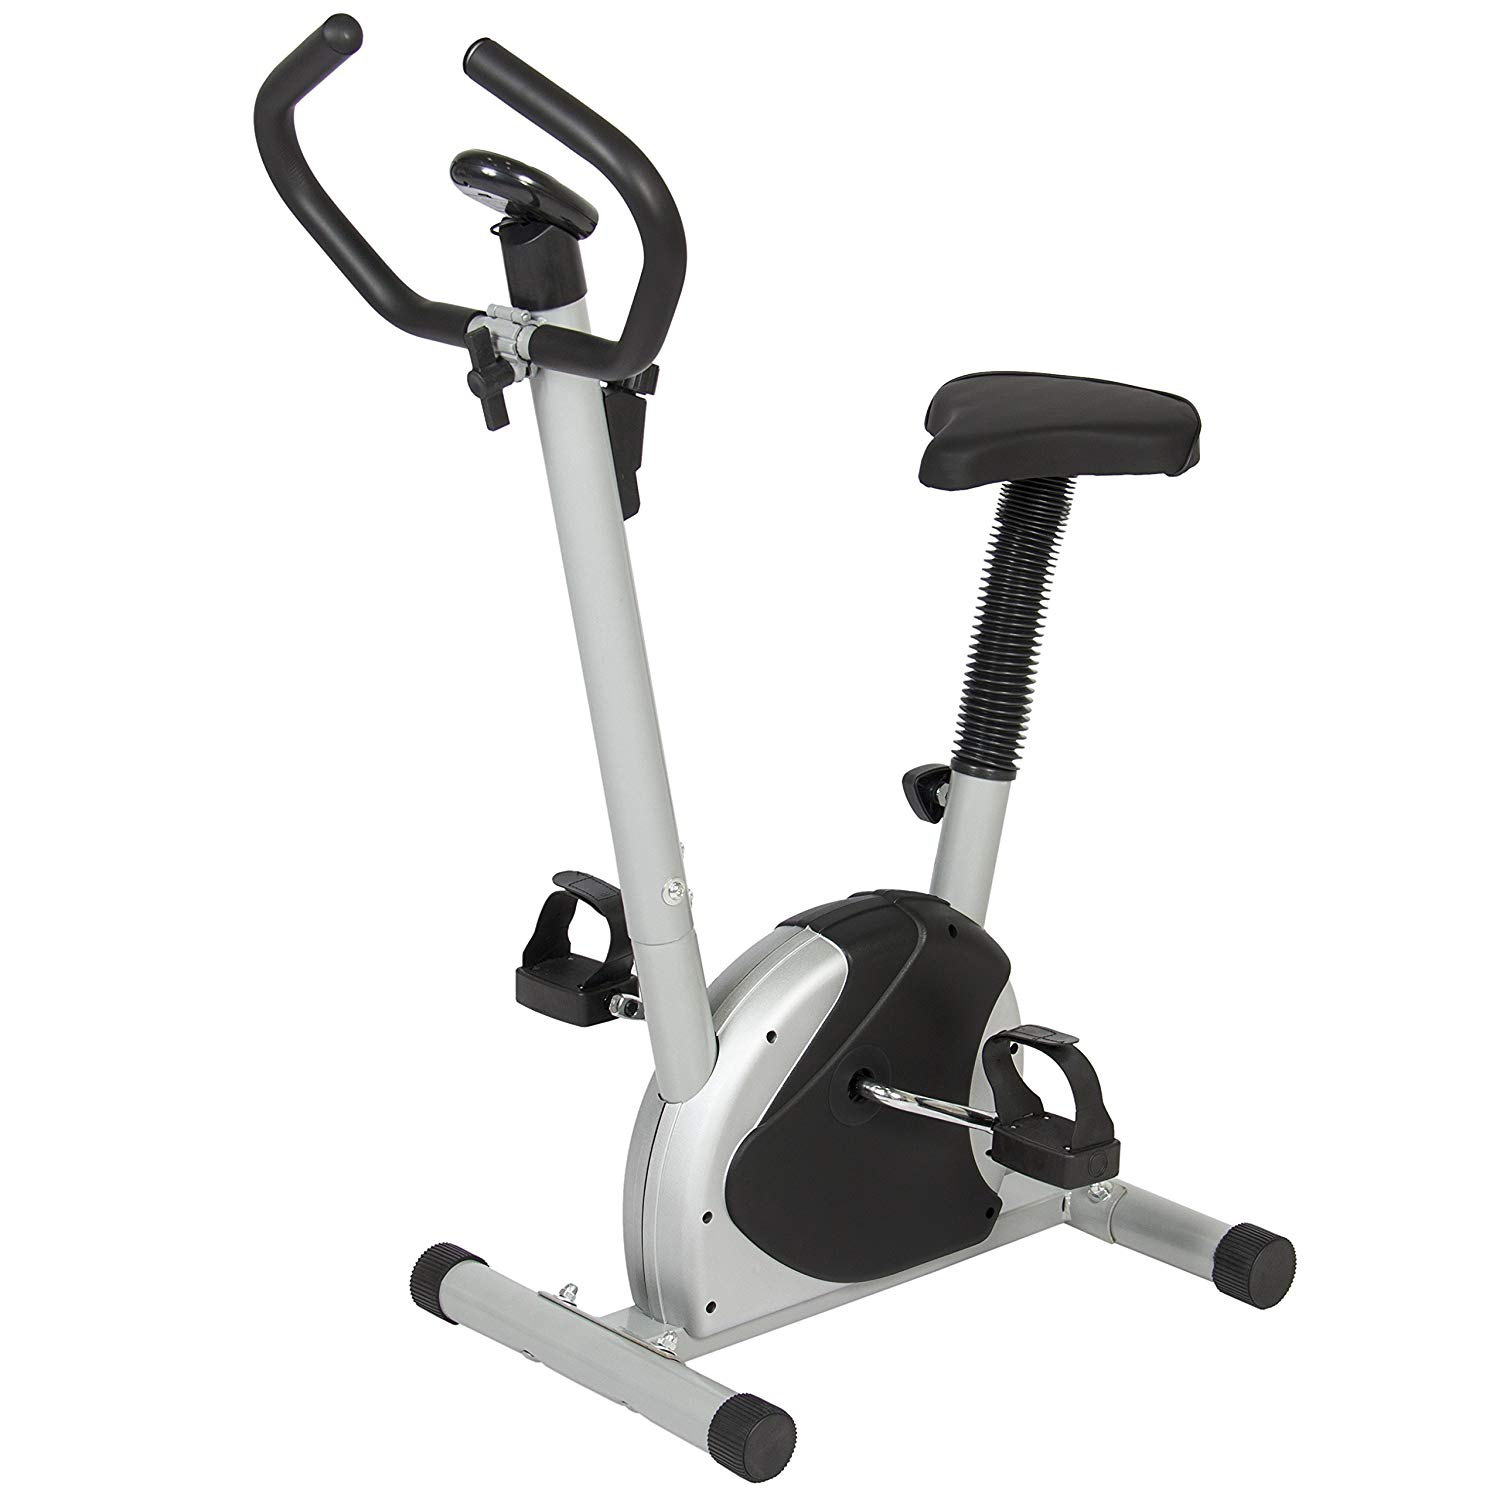gym_bike: (216, 3, 1308, 1455)
